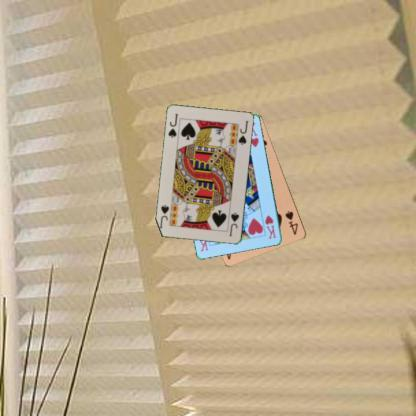4s: (282, 209, 300, 236)
Js: (166, 112, 180, 140), (226, 210, 240, 237)
Kh: (262, 213, 278, 240)
